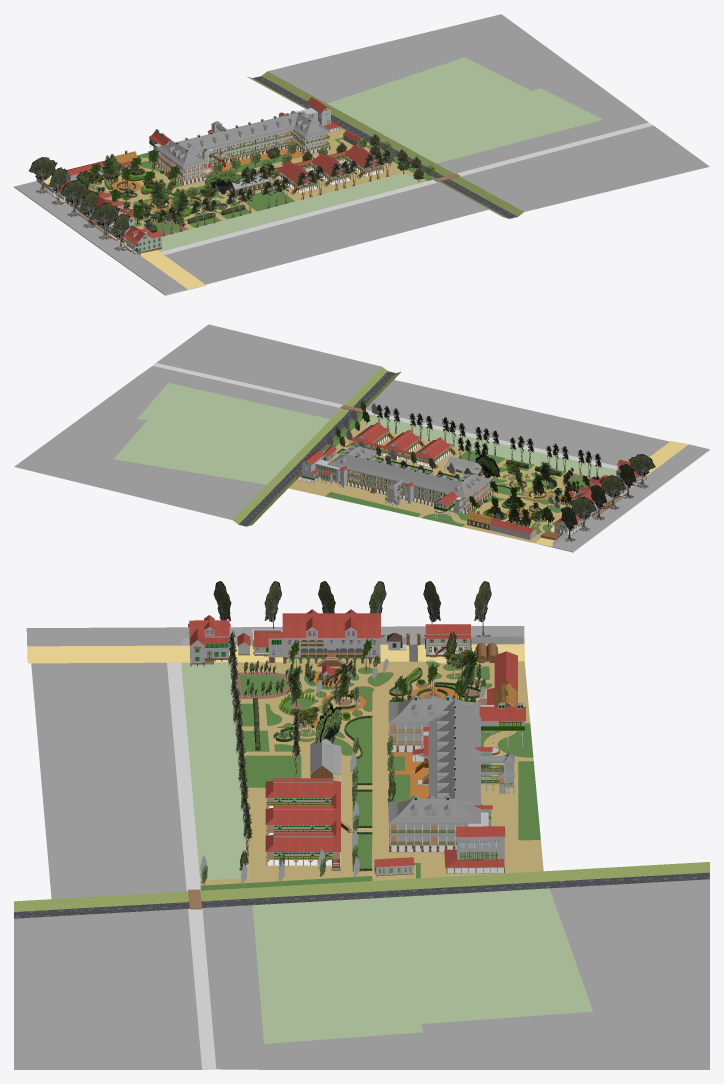
File: lands-hospitaal.glb
3 views of the same model, one above another, from view 1: azimuth 30°, elevation 25°; view 2: azimuth 150°, elevation 25°; view 3: azimuth 270°, elevation 25° (orthographic). The views are drawn at different scales.
Parts seen in each view (by area): view 1: empty_6, empty_2, empty_53, empty_72, empty_58, empty_46, empty_4, empty_64, empty_5030, empty_5, empty_54, empty_7 (+9 smaller); view 2: empty_6, empty_2, empty_53, empty_58, empty_72, empty_46, empty_4, empty_64, empty_5030, empty_5, empty_68, empty_7 (+6 smaller); view 3: empty_6, empty_2, empty_53, empty_58, empty_72, empty_64, empty_4, empty_5, empty_5030, empty_46, empty_45, empty_54 (+10 smaller).
Part boxes in pixels (<box>): empty_6: <box>268,14,709,211</box>; empty_2: <box>327,57,602,163</box>; empty_53: <box>164,182,488,284</box>; empty_72: <box>157,173,421,251</box>; empty_58: <box>88,127,427,229</box>; empty_46: <box>14,181,187,294</box>; empty_4: <box>247,71,523,218</box>; empty_64: <box>97,145,433,233</box>; empty_5030: <box>155,118,292,167</box>; empty_5: <box>253,76,517,218</box>; empty_54: <box>160,179,438,254</box>; empty_7: <box>457,122,653,176</box>; empty_6: <box>14,324,381,519</box>; empty_2: <box>114,383,330,484</box>; empty_53: <box>365,380,669,465</box>; empty_58: <box>288,414,578,543</box>; empty_72: <box>363,415,616,477</box>; empty_46: <box>552,444,709,551</box>; empty_4: <box>233,367,401,526</box>; empty_64: <box>325,413,589,522</box>; empty_5030: <box>351,459,490,497</box>; empty_5: <box>238,371,395,526</box>; empty_68: <box>325,492,554,533</box>; empty_7: <box>153,363,342,407</box>; empty_6: <box>14,879,709,1069</box>; empty_2: <box>252,888,592,1043</box>; empty_53: <box>31,662,186,899</box>; empty_58: <box>200,661,543,885</box>; empty_72: <box>181,662,249,880</box>; empty_64: <box>200,667,501,890</box>; empty_4: <box>14,862,709,911</box>; empty_5: <box>14,872,709,918</box>; empty_5030: <box>388,698,480,802</box>; empty_46: <box>26,626,524,646</box>; empty_45: <box>27,644,524,663</box>; empty_54: <box>167,662,200,891</box>.
Bounding box in the file's own units: 344 × 23.86 × 229.
Materials: 140 (73 with a texture image).
